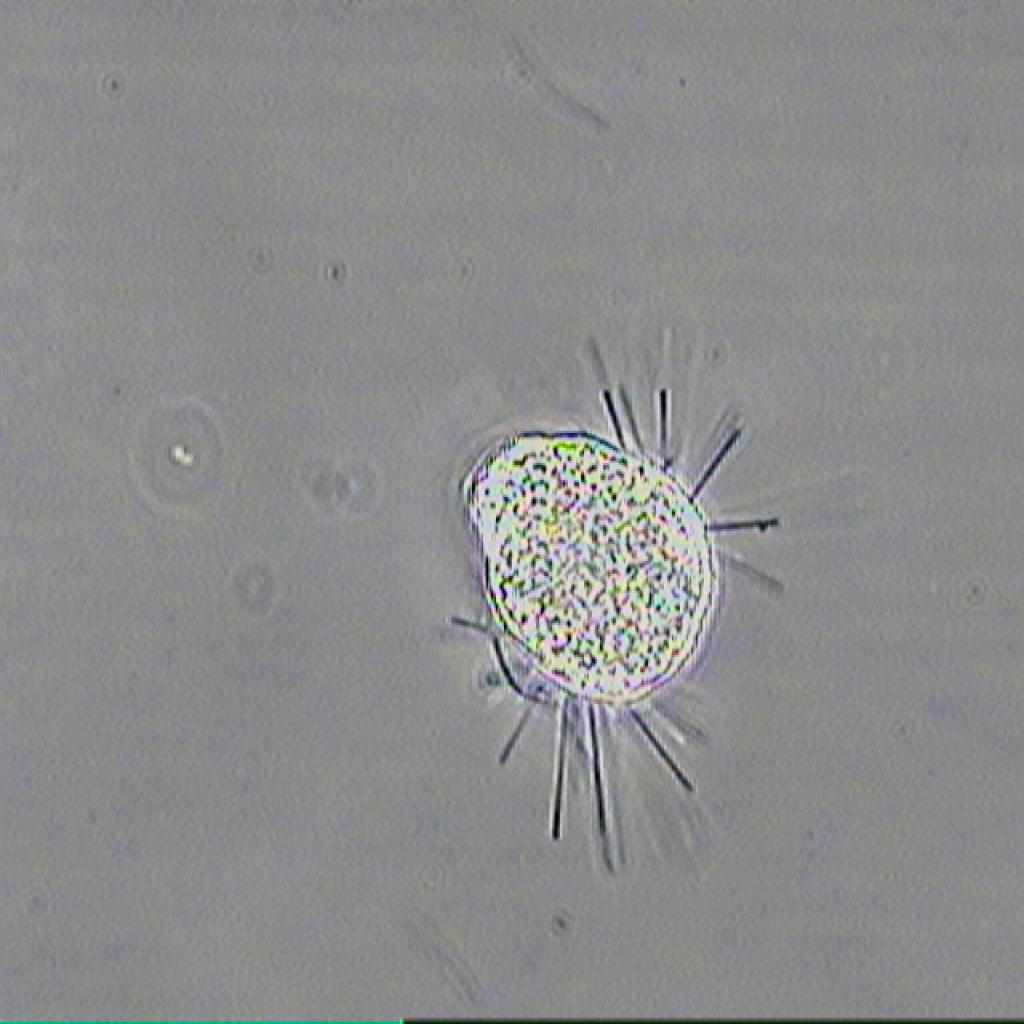Suctorida: (408, 323, 800, 889)
